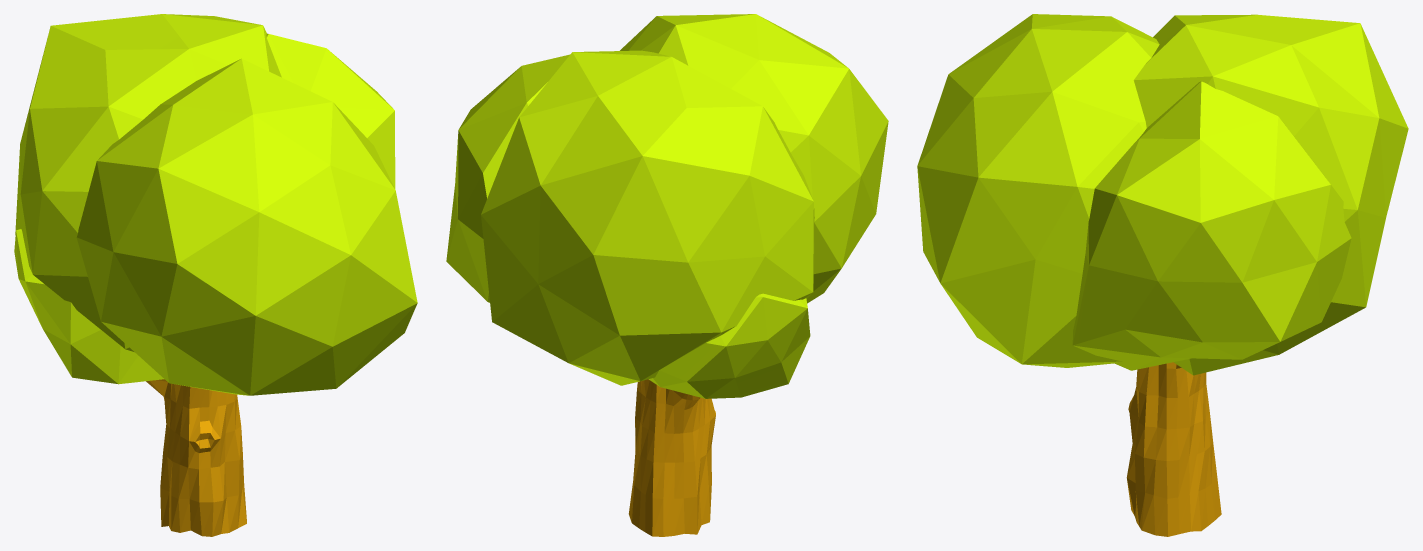
The model's file is tree2.glb.
The picture shows the model from 3 angles, left to right: view 1: azimuth 30°, elevation 25°; view 2: azimuth 150°, elevation 25°; view 3: azimuth 270°, elevation 25°; orthographic projection. The views are drawn at different scales.
Parts seen in each view (by area): view 1: Icosphere, Cylinder; view 2: Icosphere, Cylinder; view 3: Icosphere, Cylinder.
Part boxes in pixels (bbox=[...]): Icosphere: bbox=[14, 14, 417, 395]; Cylinder: bbox=[146, 379, 246, 536]; Icosphere: bbox=[446, 14, 888, 398]; Cylinder: bbox=[628, 379, 715, 536]; Icosphere: bbox=[917, 14, 1408, 375]; Cylinder: bbox=[1126, 362, 1221, 536].
Size of the model in its own units: 16.5 by 21.82 by 19.57.
